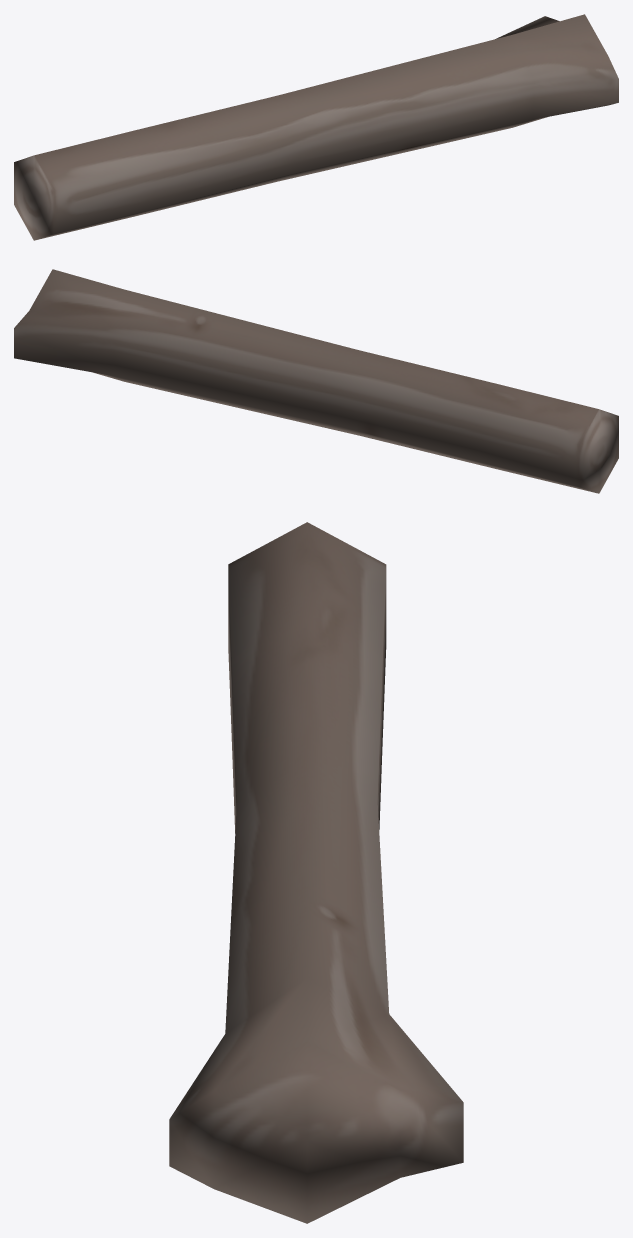
File: log_mesh.fbx
The picture shows the model from 3 angles, top to bottom: view 1: azimuth 30°, elevation 25°; view 2: azimuth 150°, elevation 25°; view 3: azimuth 270°, elevation 25°; orthographic projection. The views are drawn at different scales.
Visible parts, largest first — view 1: log_01; view 2: log_01; view 3: log_01.
Boxes of the visible parts, x1=… form: log_01: x1=14, y1=14, x2=618, y2=240; log_01: x1=14, y1=269, x2=618, y2=493; log_01: x1=169, y1=522, x2=463, y2=1223.
Bounding box in the file's own units: 156 × 25.75 × 36.09.
